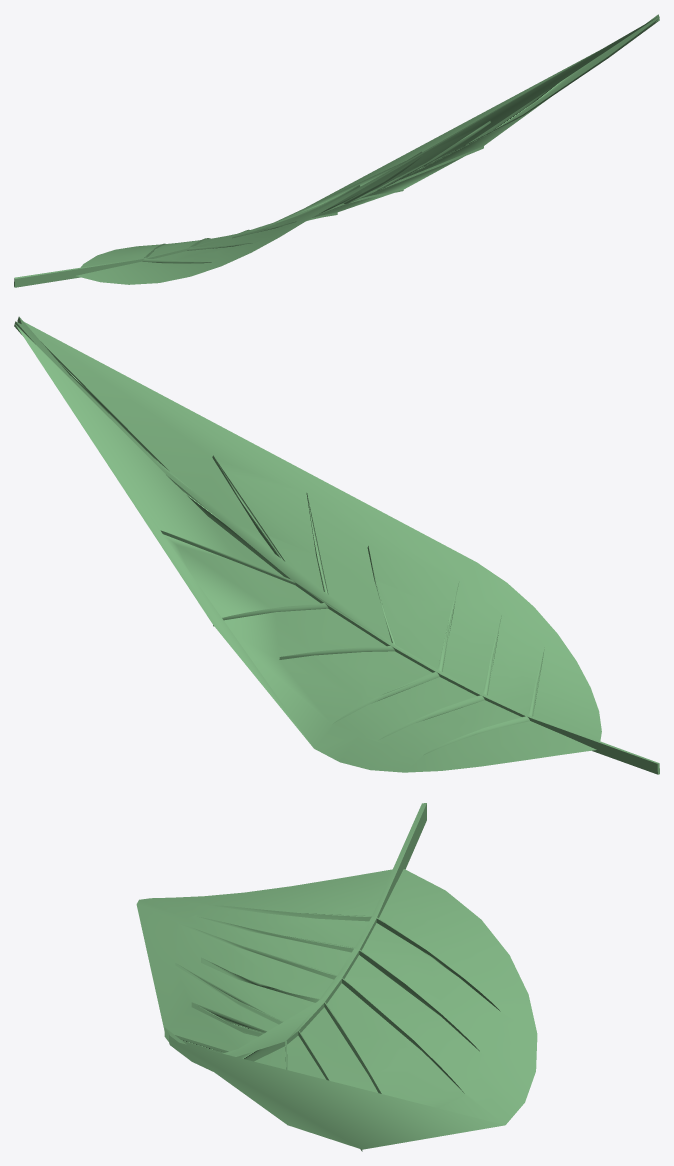
Rendered from Leaf1 v2.fbx.
3 views of the same model, one above another, from view 1: azimuth 30°, elevation 25°; view 2: azimuth 150°, elevation 25°; view 3: azimuth 270°, elevation 25° (orthographic). The views are drawn at different scales.
Parts seen in each view (by area): view 1: Body11; view 2: Body11; view 3: Body11.
Boxes of the visible parts, x1,y1,x2,y2 form: Body11: (14,14,659,287); Body11: (14,316,659,774); Body11: (136,803,537,1151).
Bounding box in the file's own units: 27.95 × 9.52 × 8.34.
